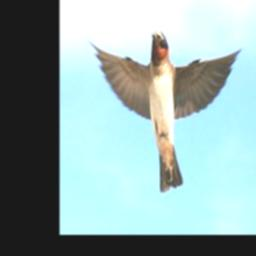Swallow: (85, 28, 243, 193)
